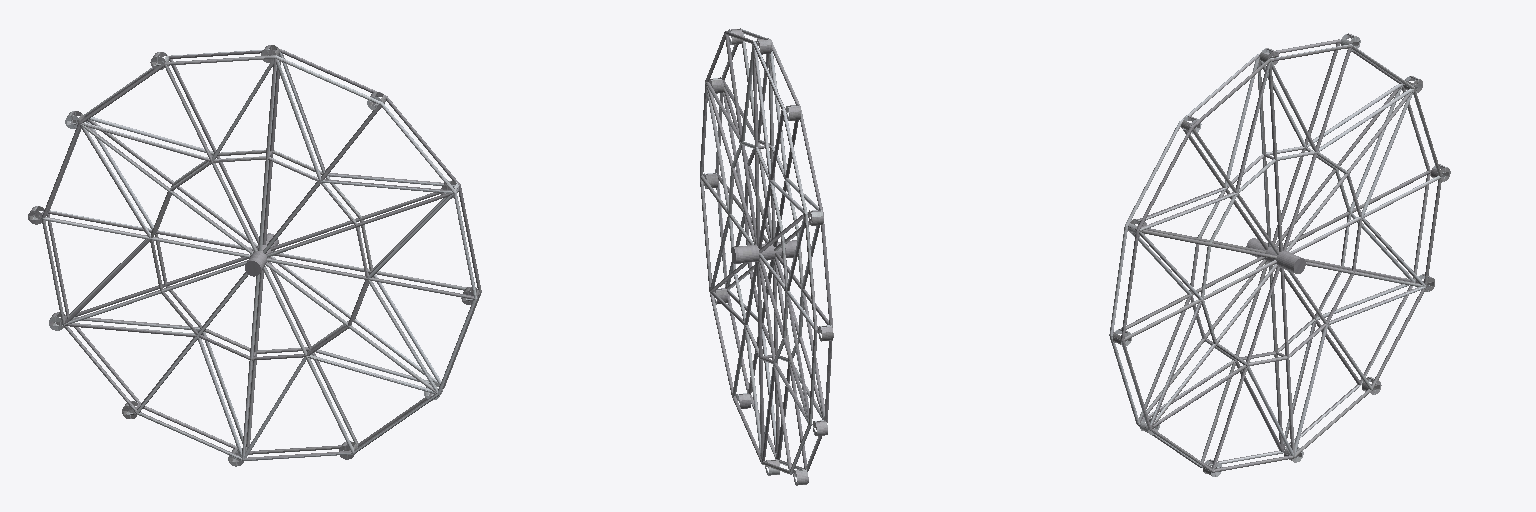
3 views of the same model, side by side, from view 1: azimuth 30°, elevation 25°; view 2: azimuth 150°, elevation 25°; view 3: azimuth 270°, elevation 25° (orthographic).
Parts seen in each view (by area): view 1: Ferris_Torus.001; view 2: Ferris_Torus.001; view 3: Ferris_Torus.001.
Part boxes in pixels (left/top/right/bottom): Ferris_Torus.001: left=28, top=45, right=481, bottom=466; Ferris_Torus.001: left=700, top=28, right=833, bottom=485; Ferris_Torus.001: left=1109, top=33, right=1450, bottom=476.
Bounding box in the file's own units: 11.97 × 16.38 × 12.04.
1 materials, 1 textured.